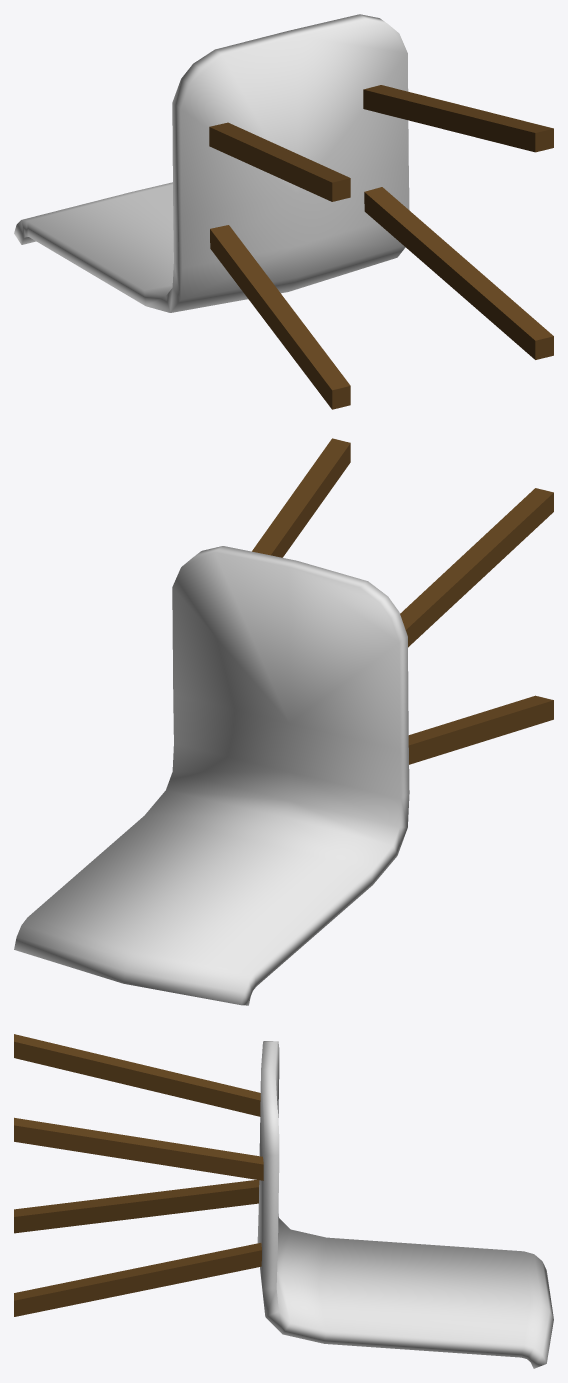
Rendered from Chair_2.glb.
3 renders of one model, top to bottom at view 1: azimuth 30°, elevation 25°; view 2: azimuth 150°, elevation 25°; view 3: azimuth 270°, elevation 25°, orthographic. The views are drawn at different scales.
Visible parts, largest first — view 1: Chair 2; view 2: Chair 2; view 3: Chair 2.
Part boxes in pixels (left/top/right/bottom): Chair 2: left=14, top=14, right=553, bottom=409; Chair 2: left=14, top=438, right=553, bottom=1005; Chair 2: left=14, top=1034, right=553, bottom=1368.
Size of the model in its own units: 0.5481 by 0.6965 by 1.34.
1 material, 1 textured.
